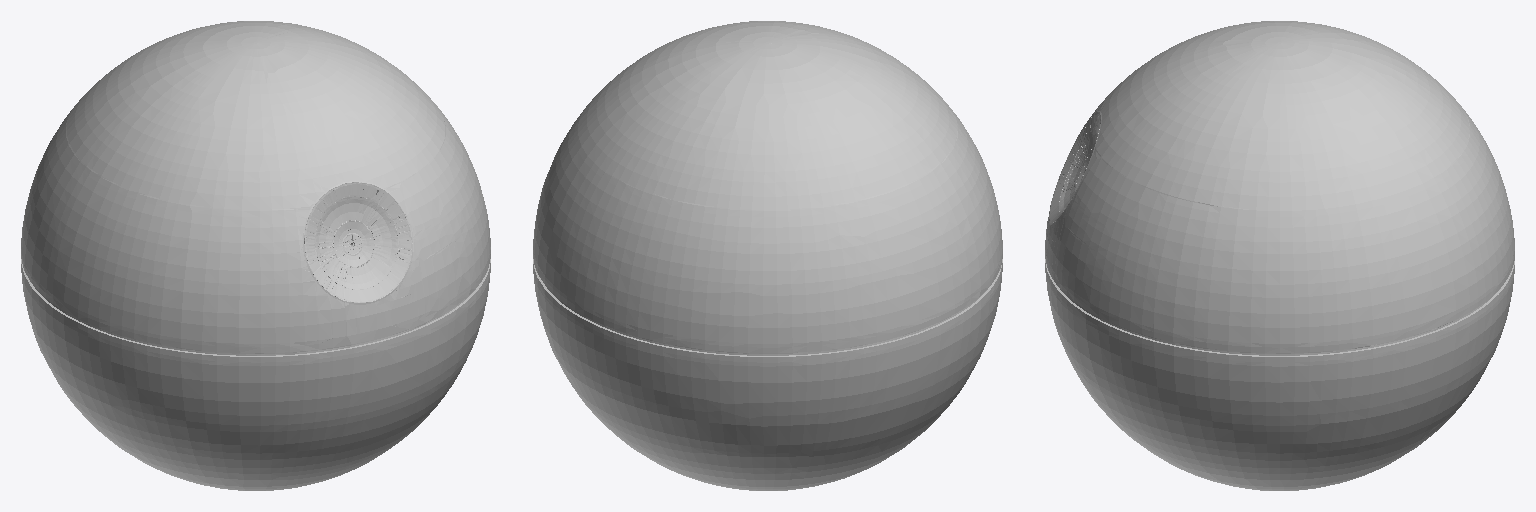
Rendered from DeathStar_f.obj.
3 views of the same model, side by side, from view 1: azimuth 30°, elevation 25°; view 2: azimuth 150°, elevation 25°; view 3: azimuth 270°, elevation 25° (orthographic).
Parts seen in each view (by area): view 1: 40_GreyPanelsDarker_0.1_16_16; view 2: 40_GreyPanelsDarker_0.1_16_16; view 3: 40_GreyPanelsDarker_0.1_16_16.
Boxes of the visible parts, x1=… form: 40_GreyPanelsDarker_0.1_16_16: x1=21, y1=21, x2=490, y2=490; 40_GreyPanelsDarker_0.1_16_16: x1=533, y1=21, x2=1002, y2=490; 40_GreyPanelsDarker_0.1_16_16: x1=1045, y1=21, x2=1514, y2=490.
Bounding box in the file's own units: 0.9938 × 0.995 × 0.9941.